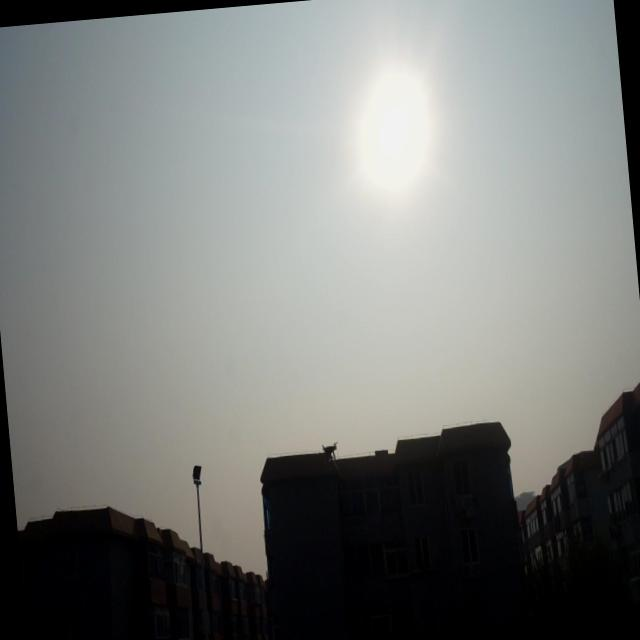drone: (320, 437, 340, 462)
